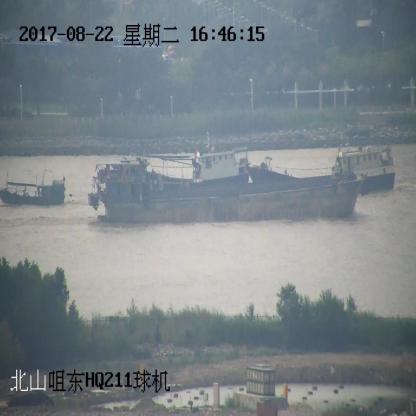Bulk Carrier: (88, 159, 365, 228)
